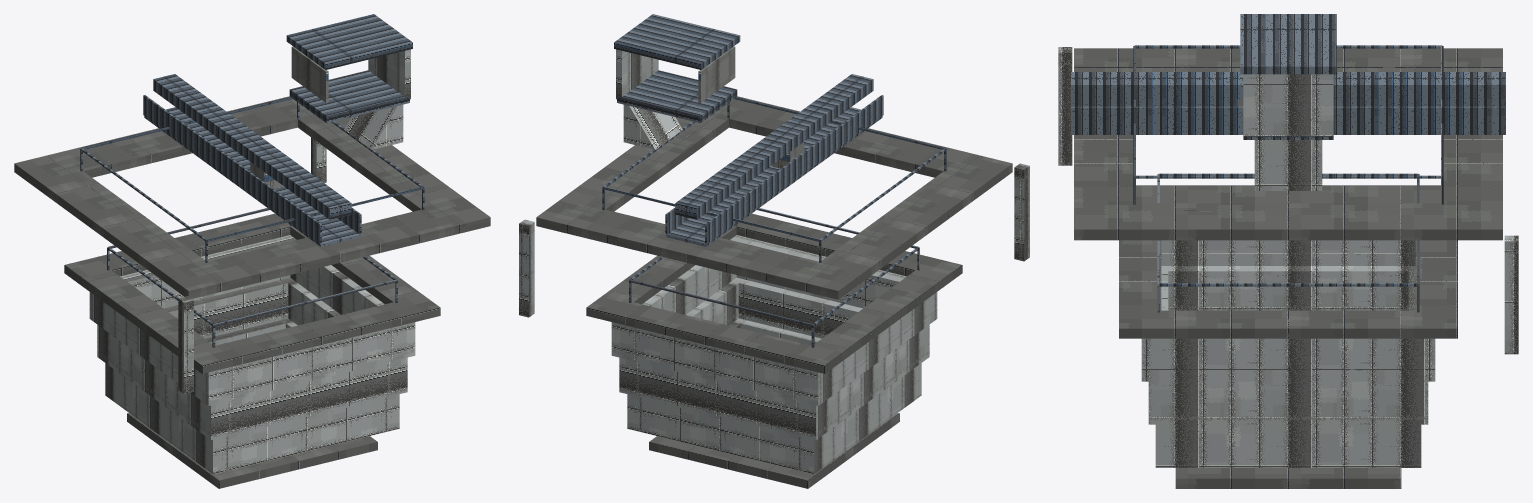
Rendered from lm_drop_test_hall.glb.
The picture shows the model from 3 angles, left to right: view 1: azimuth 30°, elevation 25°; view 2: azimuth 150°, elevation 25°; view 3: azimuth 270°, elevation 25°; orthographic projection. The views are drawn at different scales.
Visible parts, largest first — view 1: lm_drop_test_hall; view 2: lm_drop_test_hall; view 3: lm_drop_test_hall.
Part boxes in pixels (left/top/right/bottom): lm_drop_test_hall: left=14, top=14, right=490, bottom=488; lm_drop_test_hall: left=519, top=14, right=1029, bottom=488; lm_drop_test_hall: left=1058, top=14, right=1518, bottom=488.
Bounding box in the file's own units: 16.3 × 17.95 × 16.3.
54 materials, 54 textured.
